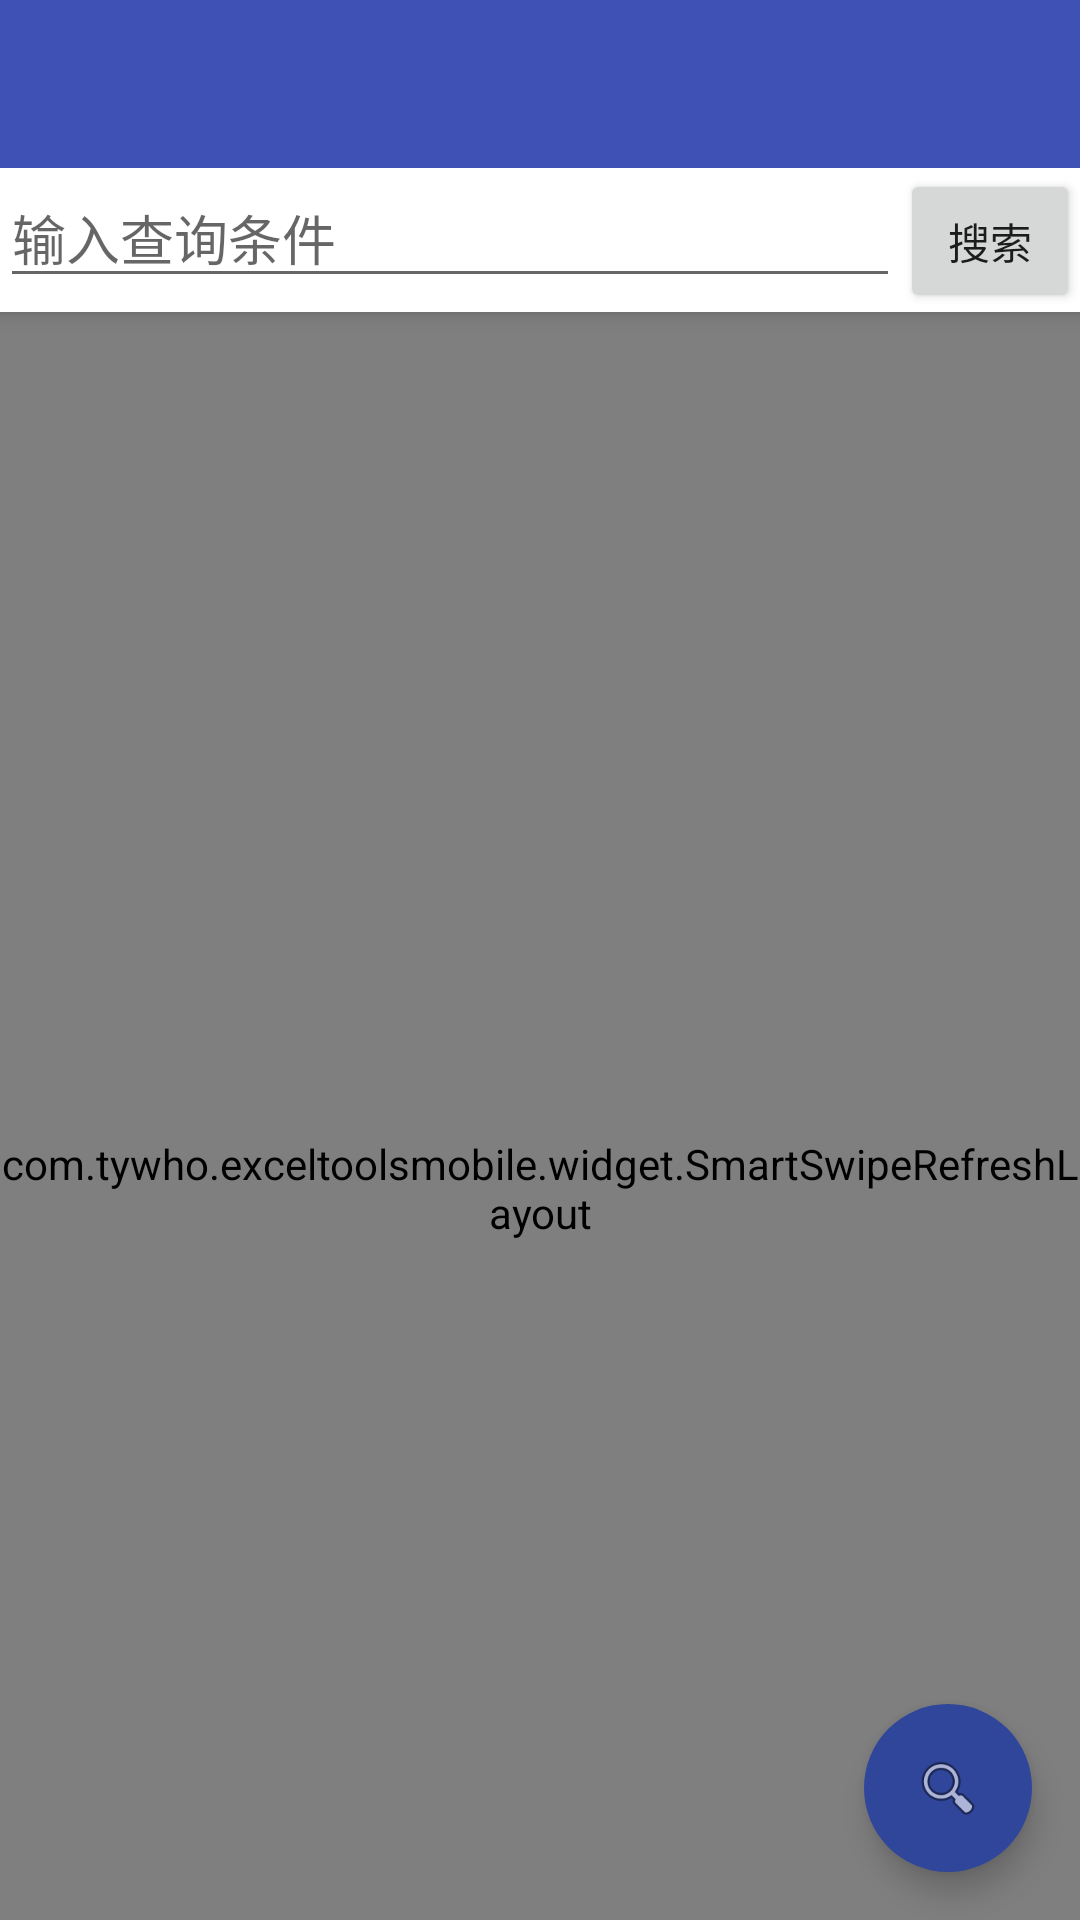

Screen size 1080 x 1920. Icon name, then its box in pixels as (x1, y1, x2, y2):
search: (864, 1704, 1032, 1872)
